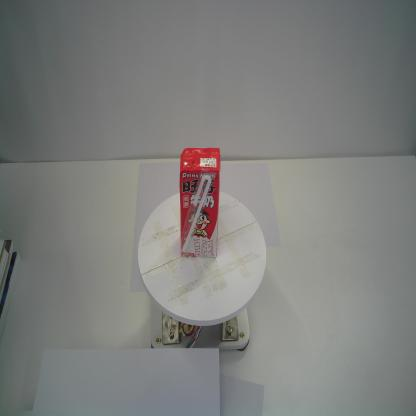Milk: (178, 144, 223, 262)
